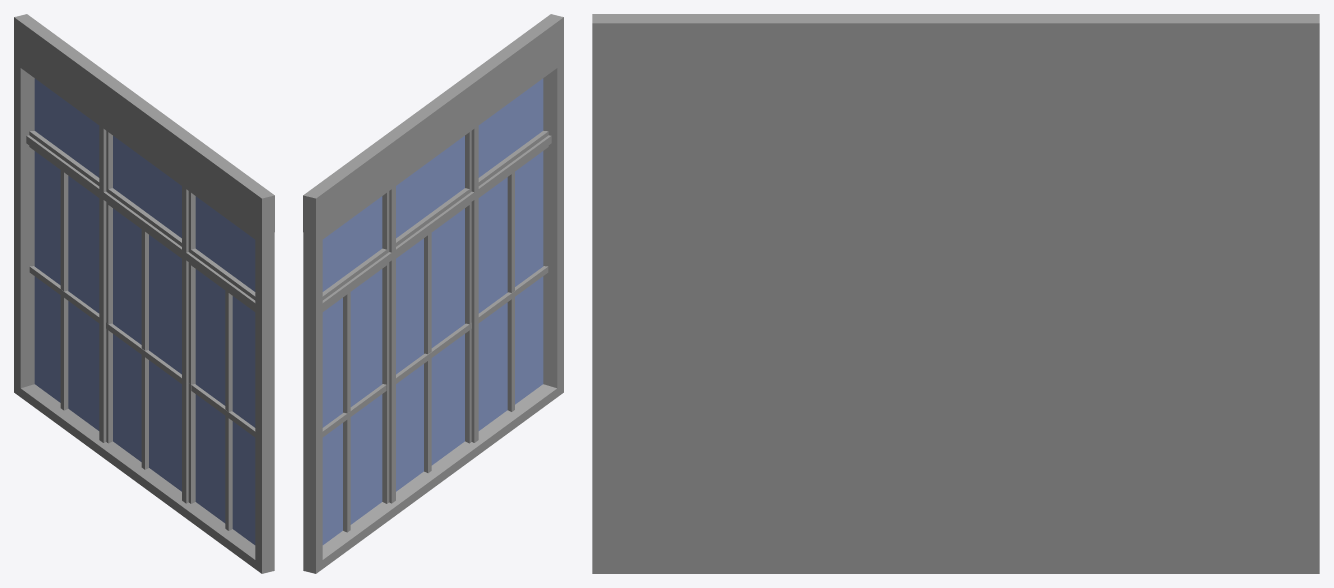
The model's file is N_House_Window_Big.fbx.
3 views of the same model, side by side, from view 1: azimuth 30°, elevation 25°; view 2: azimuth 150°, elevation 25°; view 3: azimuth 270°, elevation 25° (orthographic). The views are drawn at different scales.
Parts seen in each view (by area): view 1: N_House_Window_Big; view 2: N_House_Window_Big; view 3: N_House_Window_Big.
Boxes of the visible parts, x1,y1,x2,y2 form: N_House_Window_Big: (14, 14, 274, 573); N_House_Window_Big: (303, 14, 563, 573); N_House_Window_Big: (592, 14, 1319, 573).
Size of the model in its own units: 4.81 by 132 by 159.
